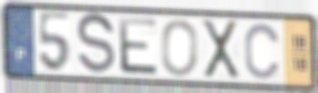5: (36, 10, 73, 76)
C: (243, 21, 283, 82)
E: (116, 15, 161, 78)
O: (160, 18, 200, 79)
S: (76, 11, 117, 79)
X: (199, 18, 243, 81)
